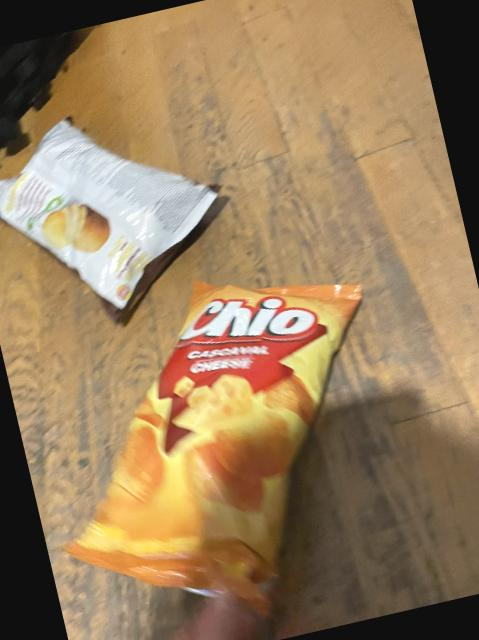Chio Cascaval 125g: (10, 248, 428, 640)
Lays Beef Grilled Ribs 125g: (0, 86, 244, 337)
